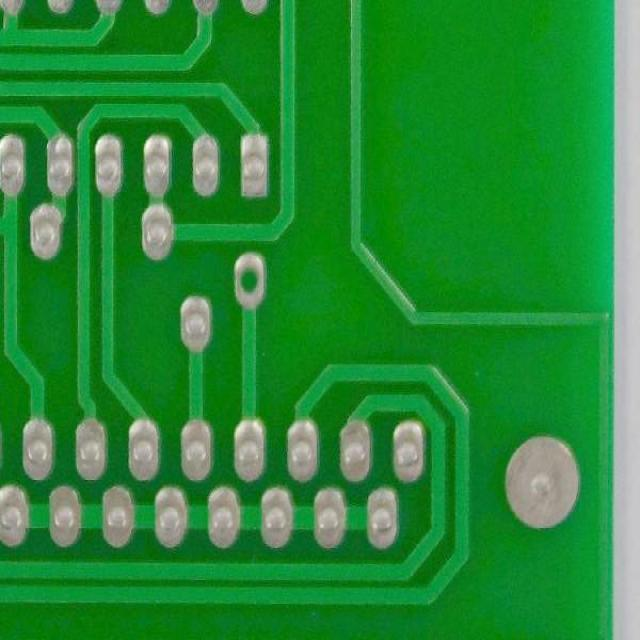missing hole: (227, 245, 271, 323)
